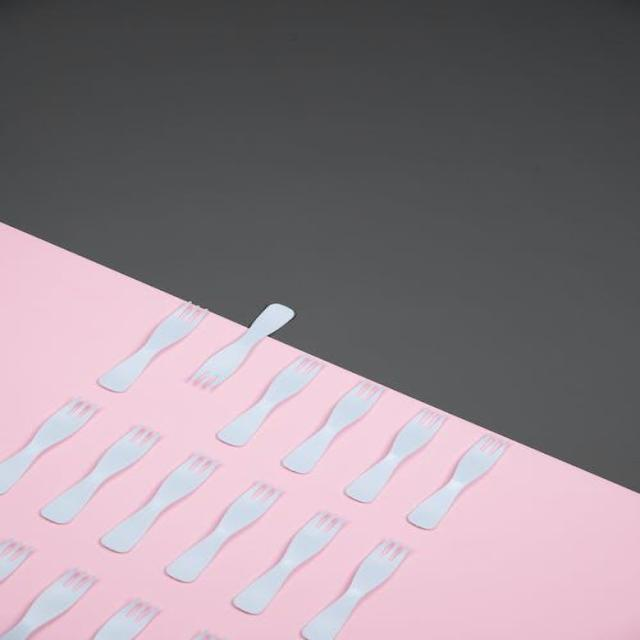plastic: (79, 432, 369, 632), (113, 298, 206, 395), (390, 421, 454, 529)
